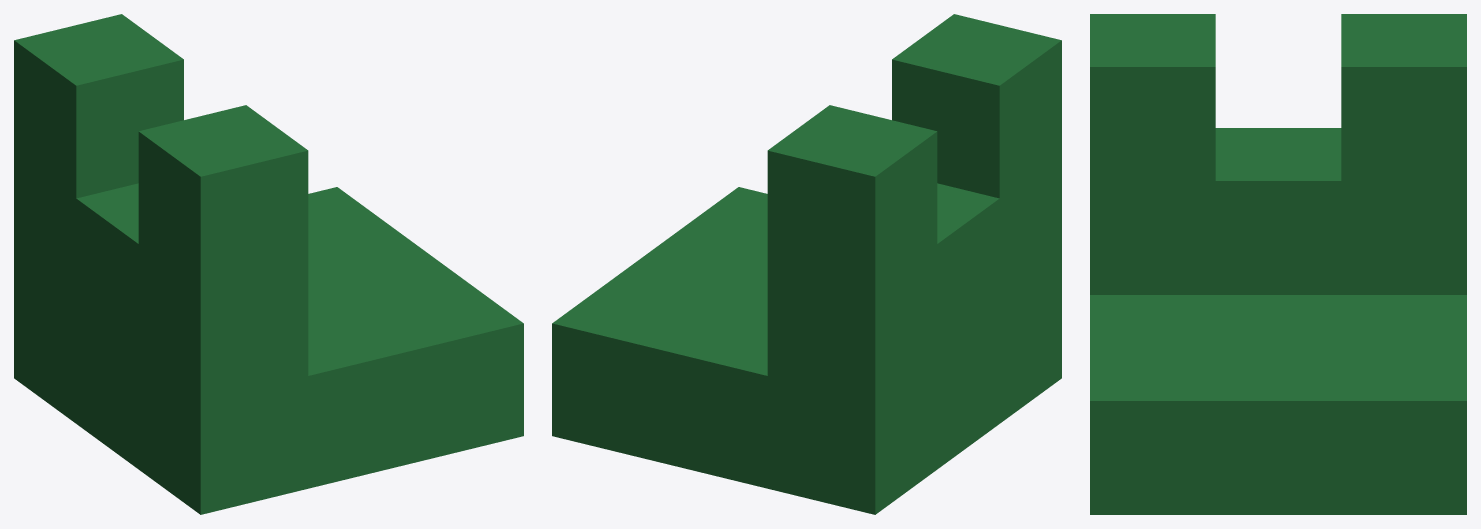
Rendered from Pieza1.glb.
3 renders of one model, left to right at view 1: azimuth 30°, elevation 25°; view 2: azimuth 150°, elevation 25°; view 3: azimuth 270°, elevation 25°, orthographic.
Visible parts, largest first — view 1: Part Studio 1 - Pieza 3DVistas.stl; view 2: Part Studio 1 - Pieza 3DVistas.stl; view 3: Part Studio 1 - Pieza 3DVistas.stl.
Boxes of the visible parts, x1,y1,x2,y2 form: Part Studio 1 - Pieza 3DVistas.stl: [14, 14, 523, 514]; Part Studio 1 - Pieza 3DVistas.stl: [552, 14, 1061, 514]; Part Studio 1 - Pieza 3DVistas.stl: [1090, 14, 1466, 514].
Size of the model in its own units: 0.3 by 0.3 by 0.3.
